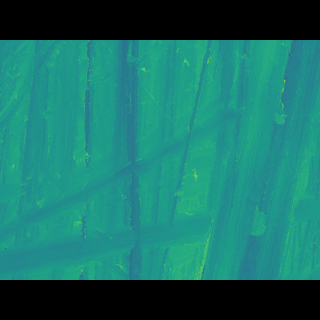Loch: (0, 104, 244, 248), (199, 69, 320, 250)
